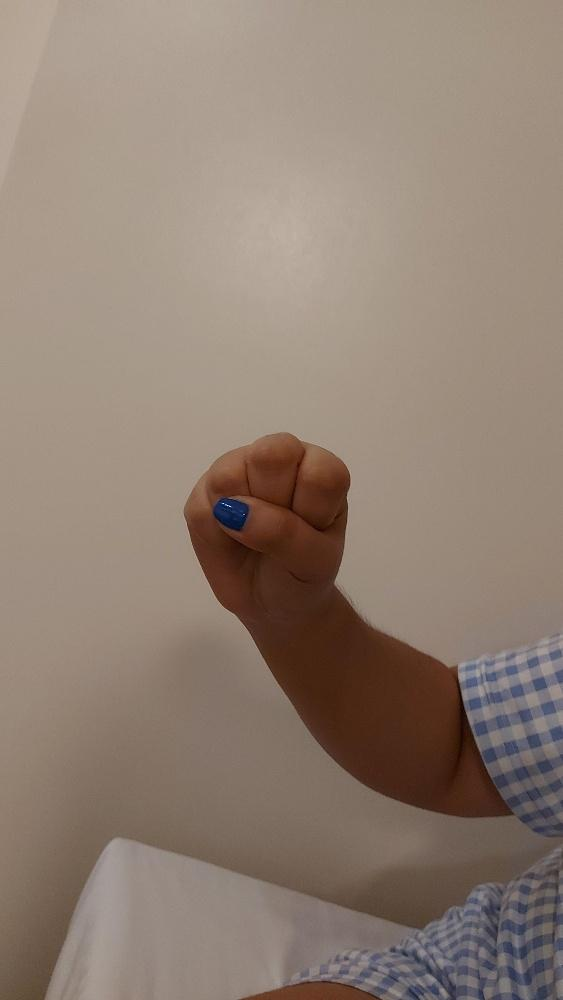s: (178, 428, 353, 618)
